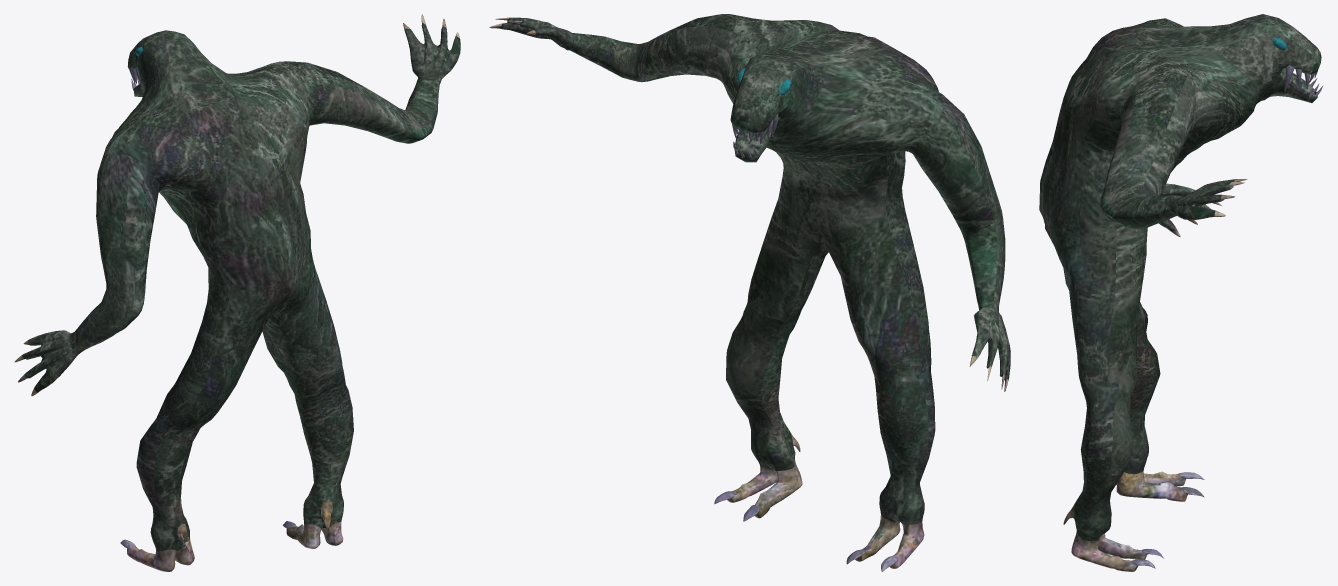
Rendered from Aranar.0005.obj.
3 renders of one model, left to right at view 1: azimuth 30°, elevation 25°; view 2: azimuth 150°, elevation 25°; view 3: azimuth 270°, elevation 25°, orthographic. The views are drawn at different scales.
Visible parts, largest first — view 1: polySurface28; view 2: polySurface28; view 3: polySurface28.
Boxes of the visible parts, box(x1,y1,x2,y2) form: polySurface28: box(14, 14, 460, 571); polySurface28: box(489, 14, 1010, 571); polySurface28: box(1039, 14, 1323, 571).
Size of the model in its own units: 2.13 by 2.15 by 1.09.
Materials: 4 (4 with a texture image).
